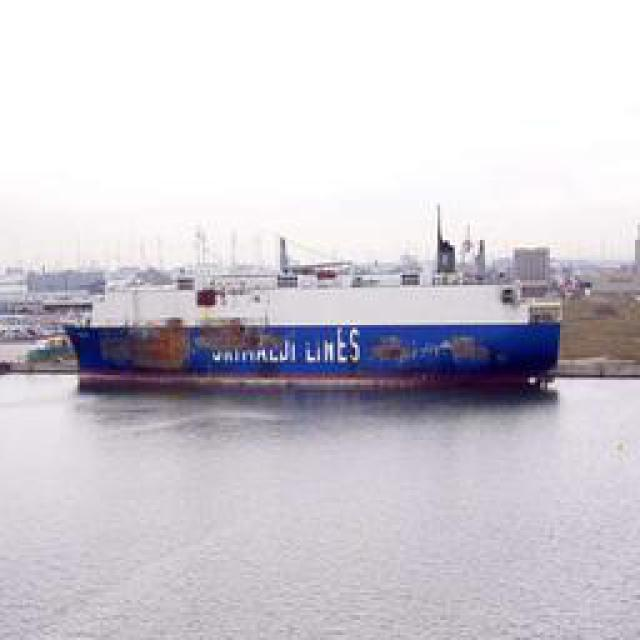Ship: (54, 244, 567, 394)
